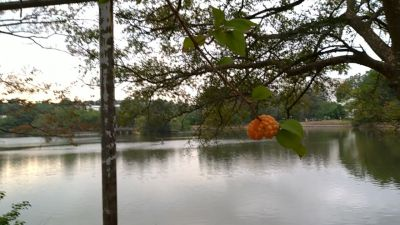eggs: (246, 113, 281, 142)
